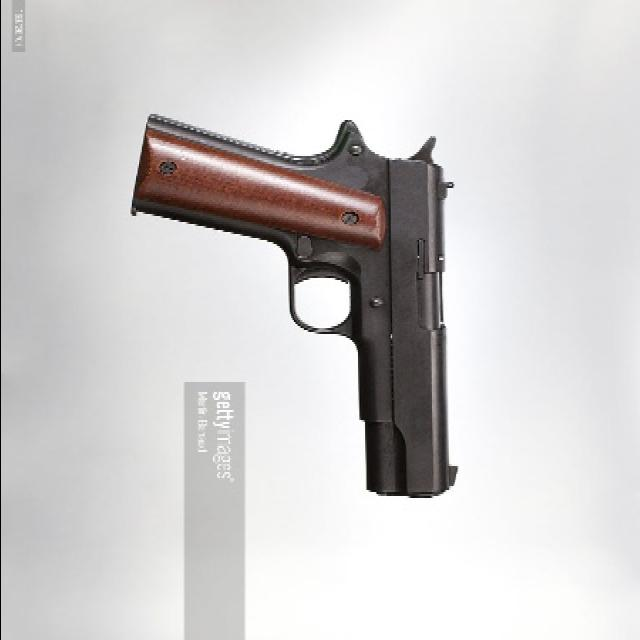handgun: (132, 109, 470, 505)
